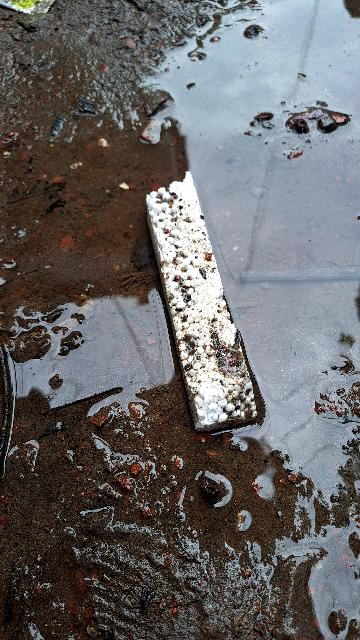cocksheet: (117, 157, 268, 445)
